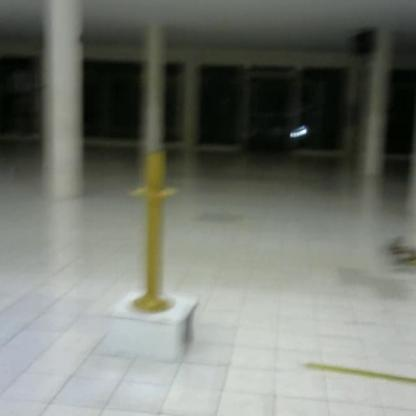pole: (129, 151, 179, 318)
